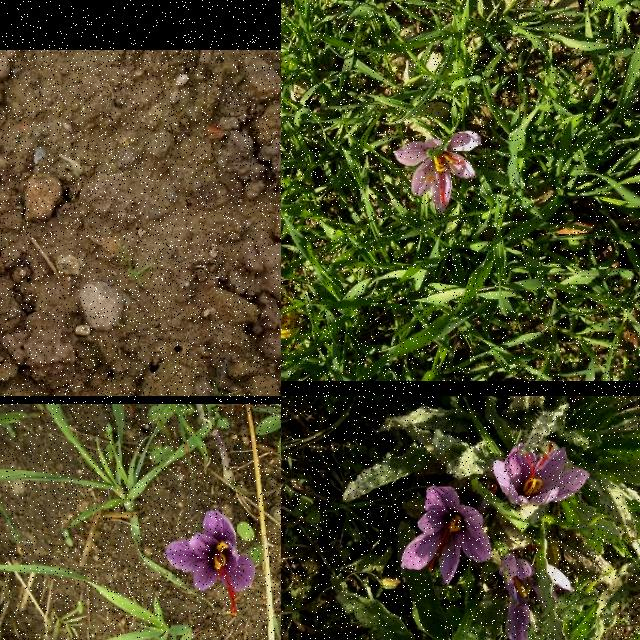flower: (164, 509, 256, 617), (400, 486, 492, 584), (394, 131, 482, 213), (498, 553, 578, 640), (493, 442, 591, 506)
